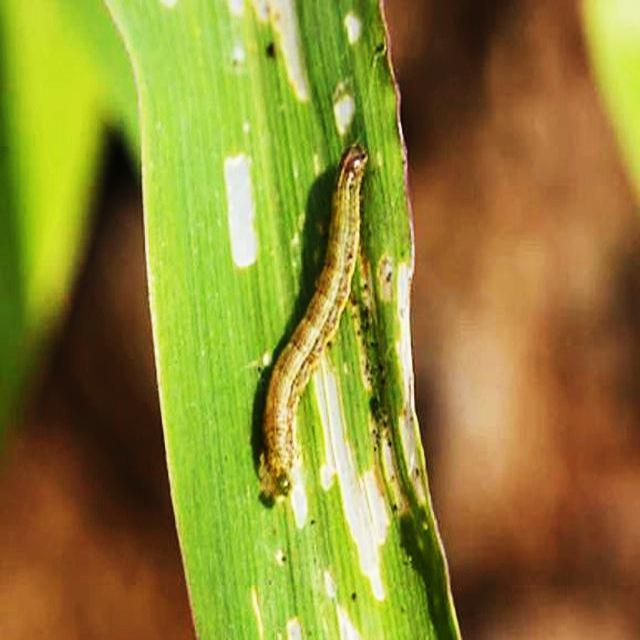gusano_cogollero: (262, 136, 368, 494)
